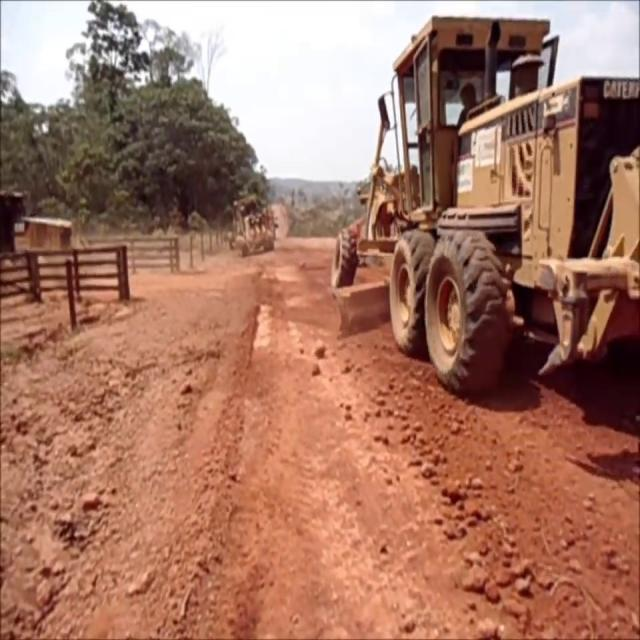buldozerpayloadergrader: (332, 19, 640, 386), (232, 195, 279, 253)
